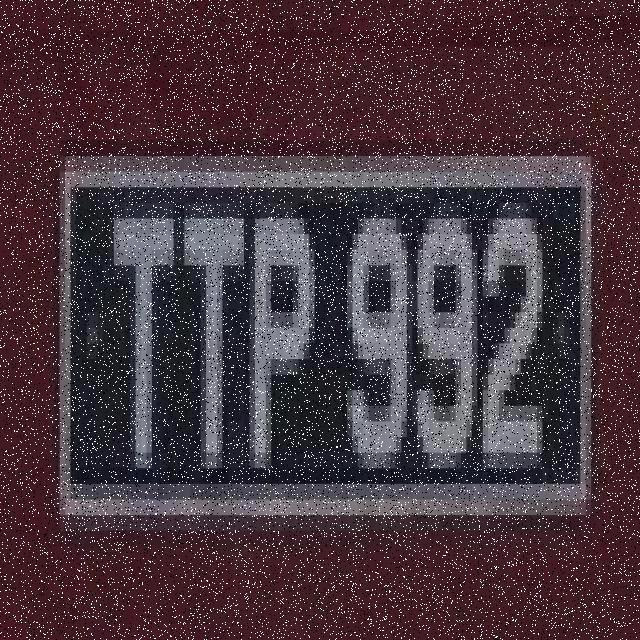LicensePlate: (55, 152, 594, 511)
